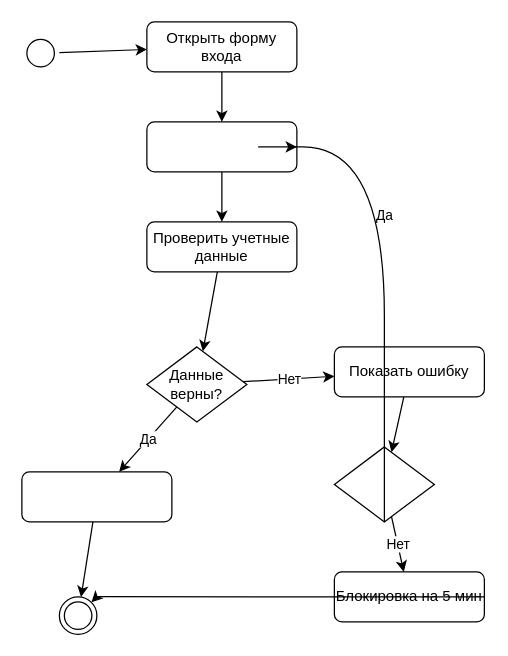
This 508x656 diagram has some shape labels left out. The shapes that lost their labels are listed below. From the top down, each one's box as (x1, y1, x2, y2) in pixels, then its label:
(146, 121, 297, 172): Ввести логин/пароль
(21, 471, 172, 522): Открыть главное меню
(333, 446, 434, 522): Попытки < 3?
